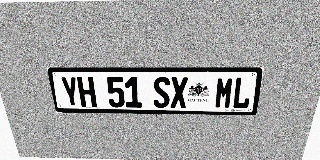1: (124, 77, 142, 108)
5: (106, 77, 125, 107)
H: (77, 77, 97, 107)
L: (231, 77, 253, 109)
M: (214, 77, 235, 109)
S: (153, 77, 170, 108)
X: (170, 77, 188, 108)
Y: (60, 77, 81, 107)
